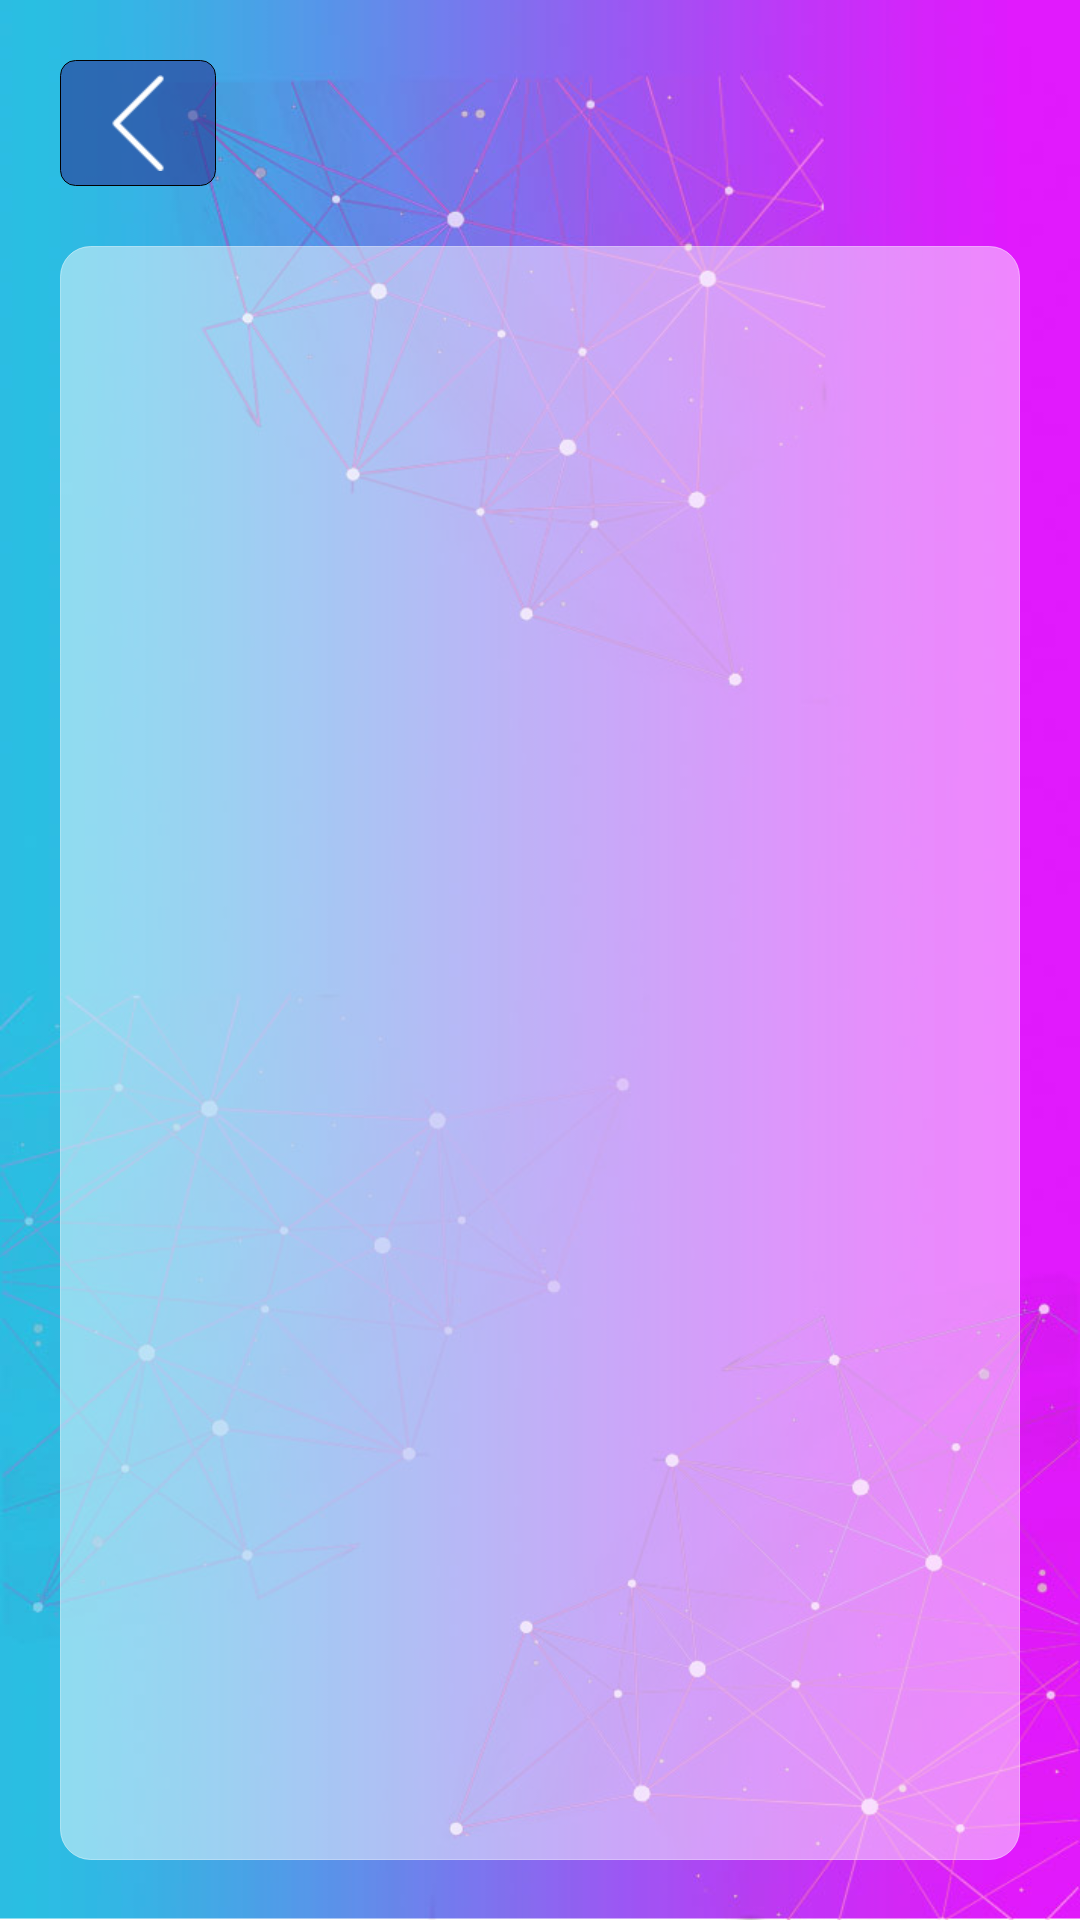

Icons on this 1080px×1920px Android screen, each with its box as (x1, y1, x2, y2):
backicon: (112, 75, 186, 171)
